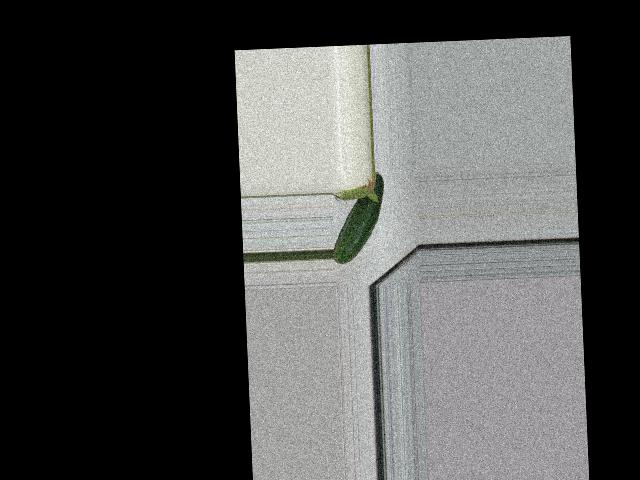cucumber: (330, 171, 386, 264)
